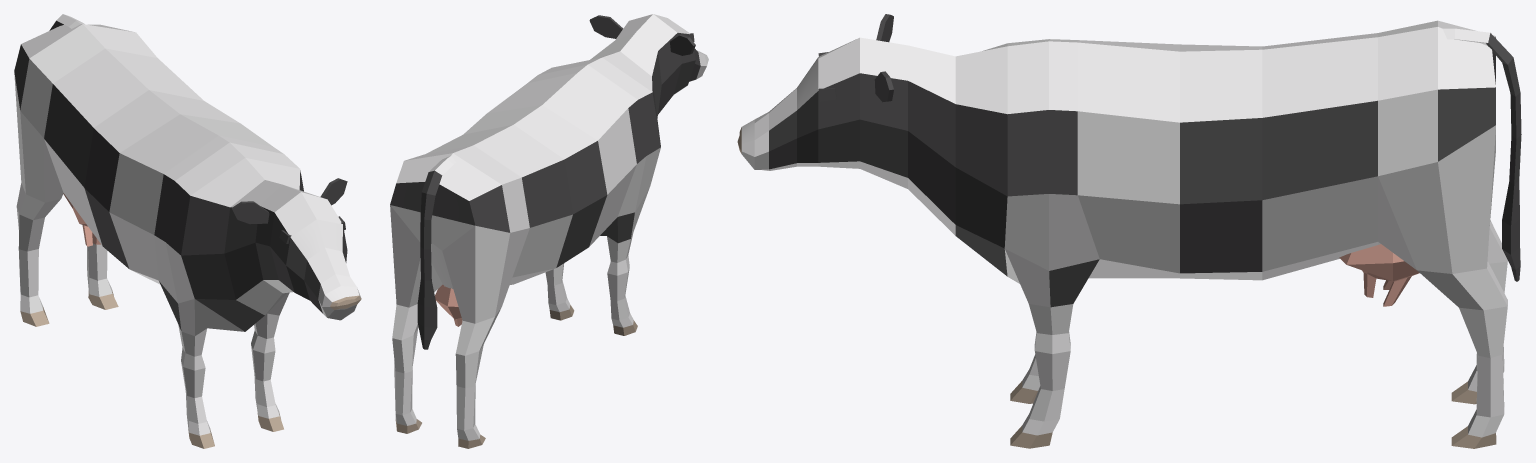
File: animal-cow-holstein.glb
3 views of the same model, side by side, from view 1: azimuth 30°, elevation 25°; view 2: azimuth 150°, elevation 25°; view 3: azimuth 270°, elevation 25° (orthographic). The views are drawn at different scales.
Parts seen in each view (by area): view 1: node-0; view 2: node-0; view 3: node-0.
Boxes of the visible parts, bbox=[...] form: node-0: bbox=[14, 14, 361, 448]; node-0: bbox=[390, 14, 708, 448]; node-0: bbox=[737, 14, 1521, 448].
Size of the model in its own units: 72.82 by 146 by 264.
1 material, 1 textured.
